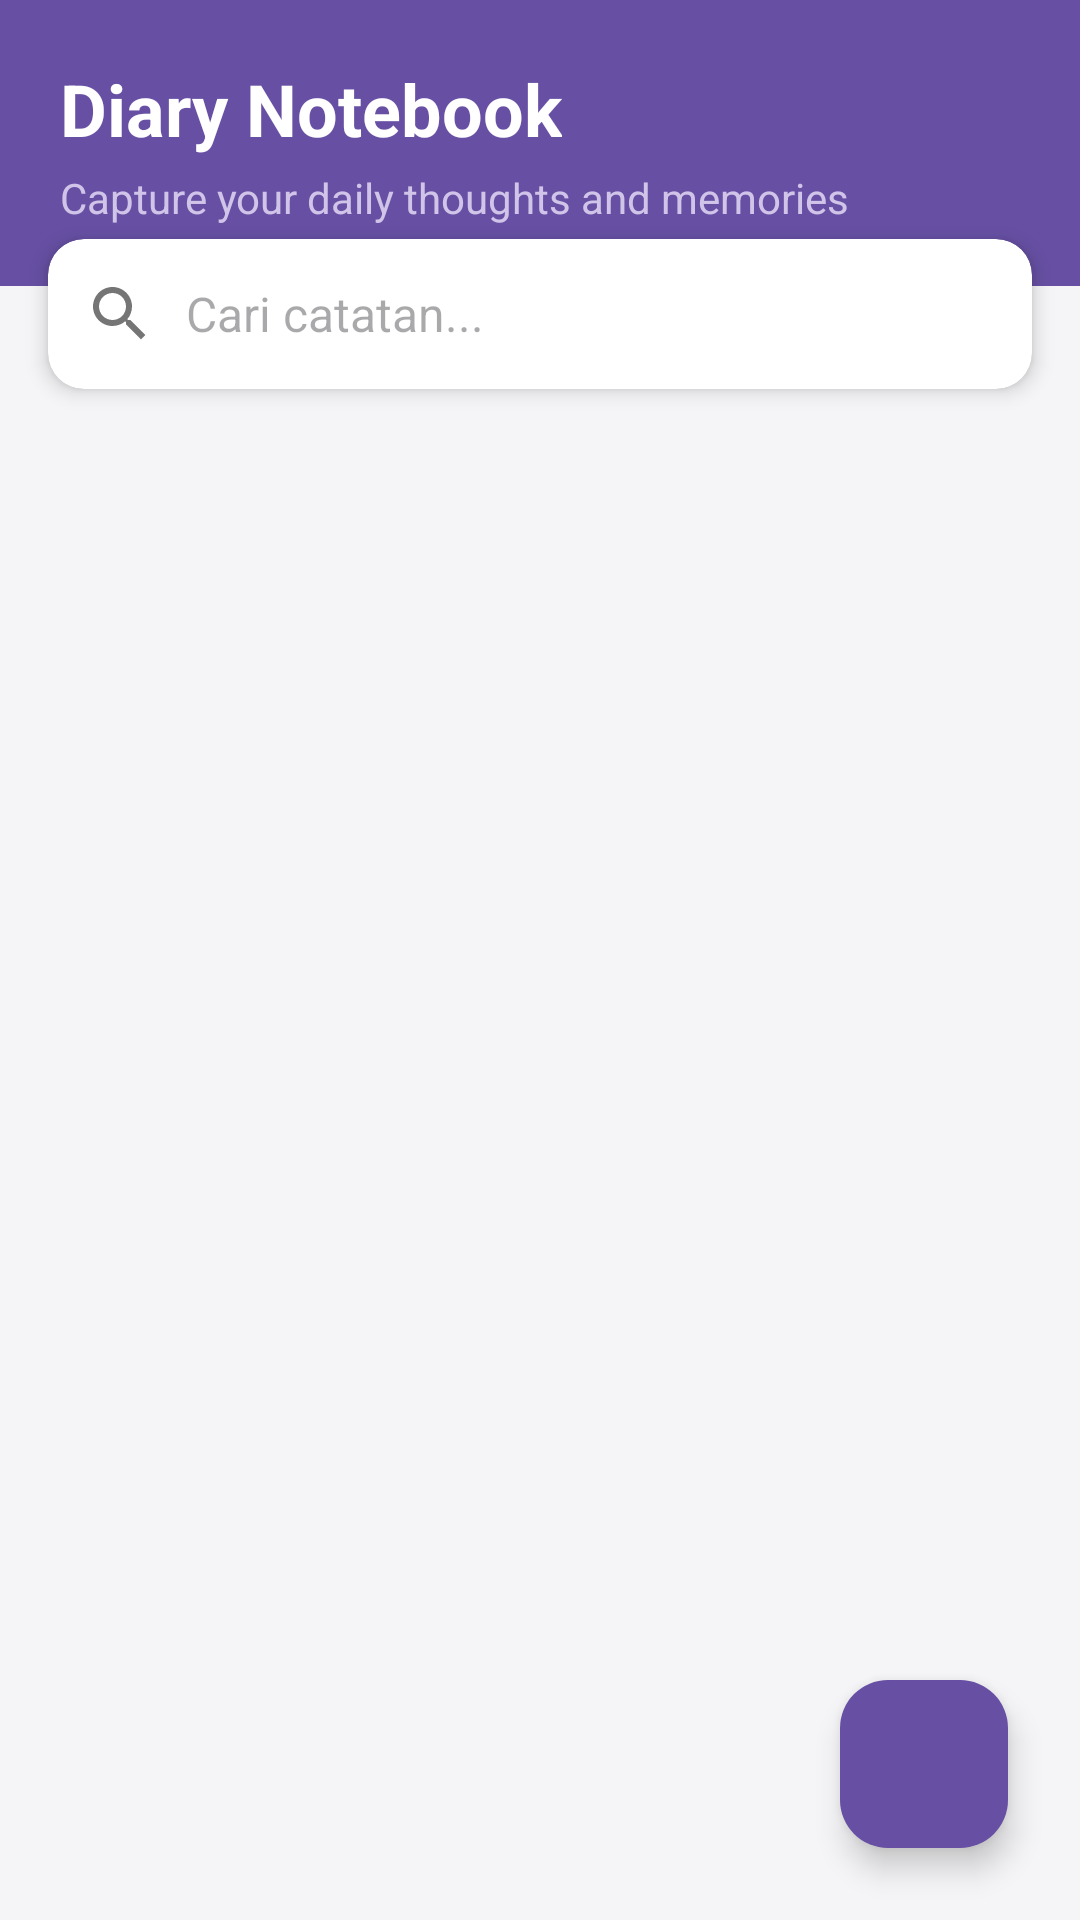

Locate icon controls on the screen. Image size 1080x1920, boxes as bbox=(x1, y1, x2, y2).
Search Icon: bbox=(93, 287, 145, 339)
